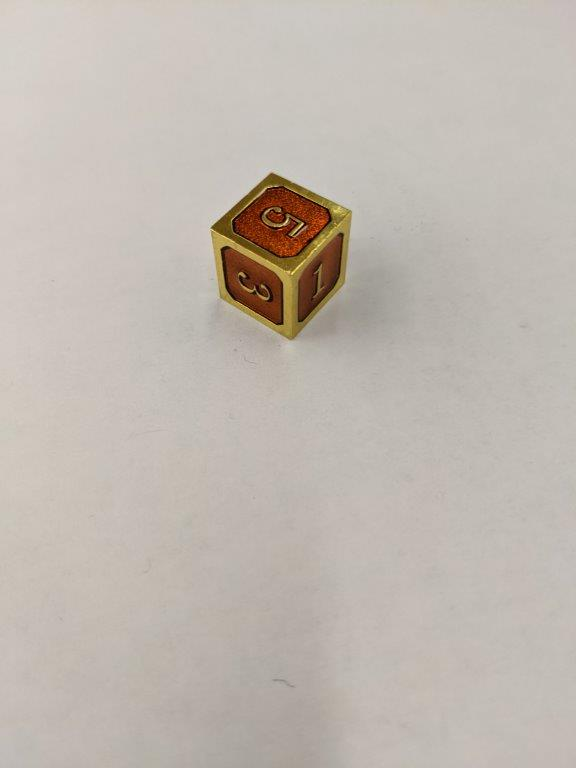d6-5: (209, 172, 356, 340)
